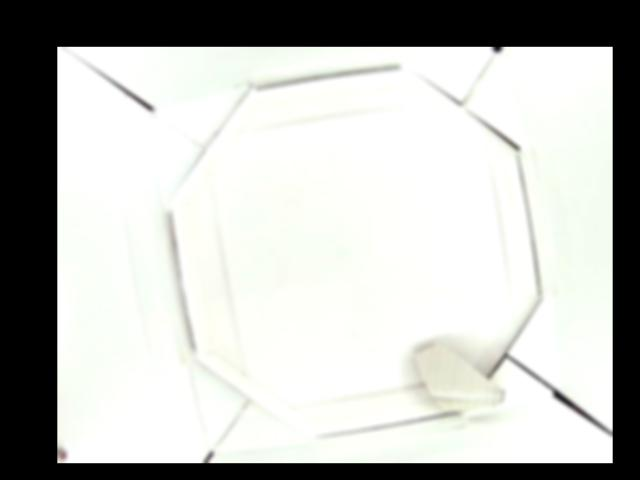China: (413, 338, 508, 418)
